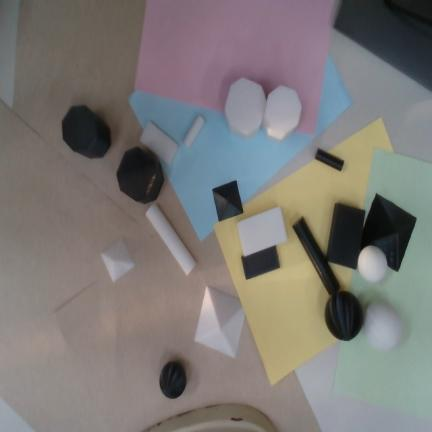Cilindro: (291, 216, 341, 295), (144, 203, 197, 276), (182, 115, 205, 148), (315, 148, 344, 171)
Esfera: (324, 290, 363, 341), (363, 302, 403, 351), (159, 361, 187, 399), (358, 246, 387, 282)
Paralelepipedo: (236, 205, 289, 257), (326, 202, 366, 270), (139, 122, 179, 166), (241, 246, 280, 280)
Piramide: (360, 193, 417, 273), (194, 286, 245, 359), (101, 238, 135, 283), (212, 180, 244, 222)
Prisma_hexagonal: (117, 146, 164, 204), (62, 104, 111, 158), (224, 77, 266, 139), (262, 85, 302, 143)
